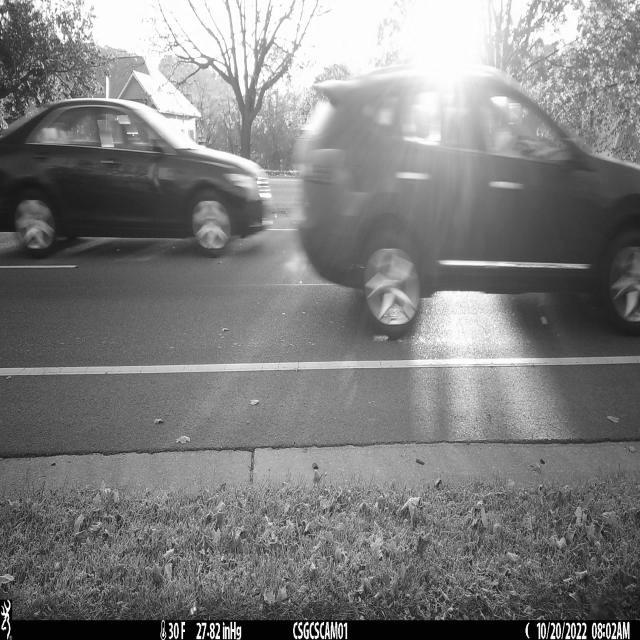SUV: (296, 64, 640, 333)
Sedan: (0, 99, 270, 258)
